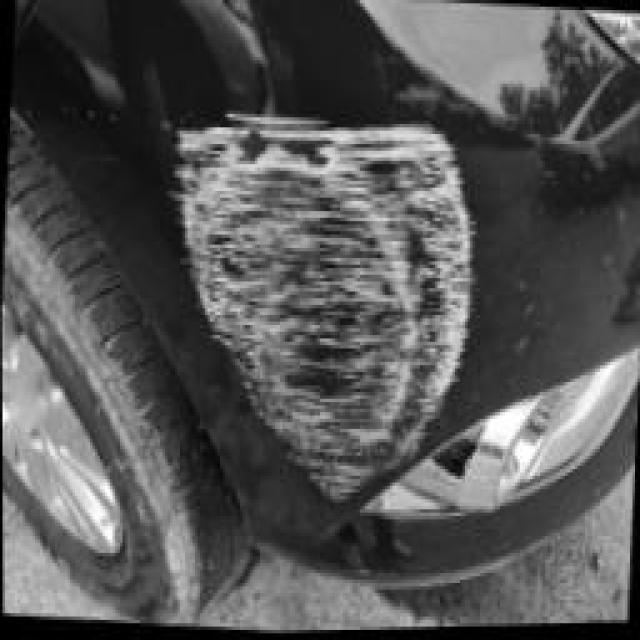Bumper: (140, 70, 520, 595)
